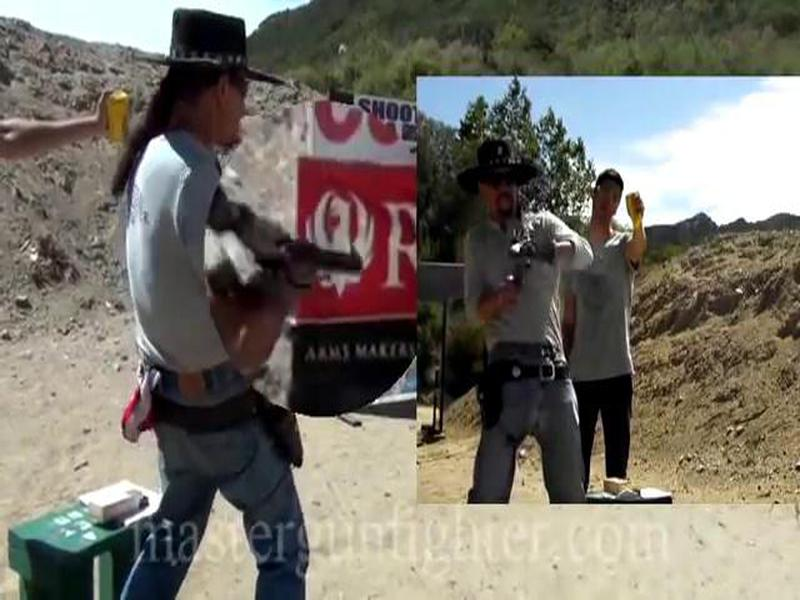Revolver: (243, 226, 375, 327)
